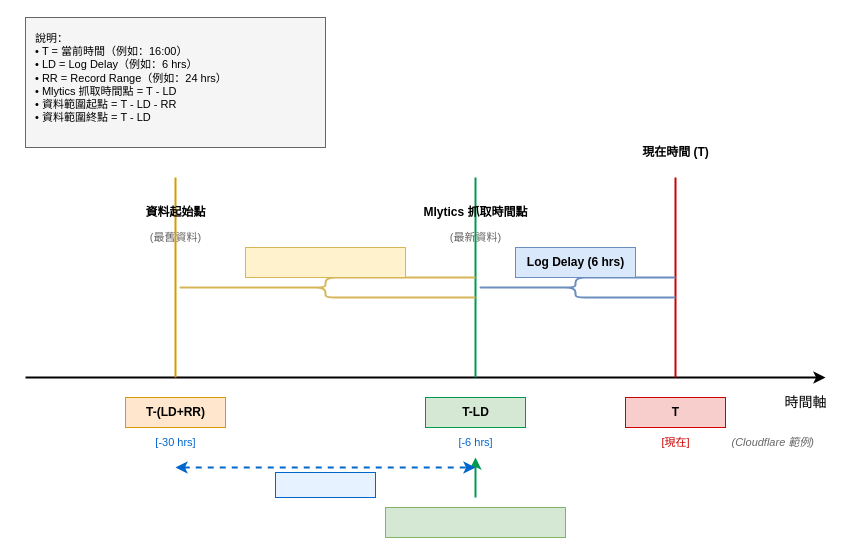
The diagram is 852 pixels wide and 555 high, and some of its shapes have lost their labels. The shapes that lost their labels are listed below. From the top down, each one's centre as x and y in pixels, then its label:
At (x=325, y=262): "Record Range (24 hrs)".
At (x=325, y=485): "24小時範圍".
At (x=475, y=522): "在此時間點執行抓取".
